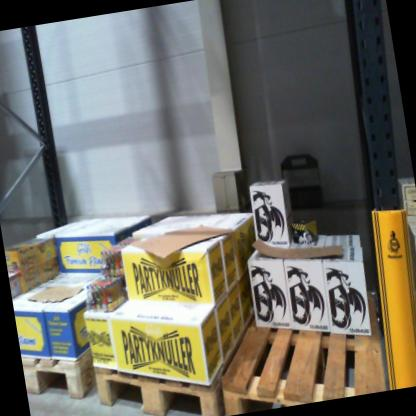pallet: (83, 264, 323, 416), (205, 270, 399, 414), (15, 289, 165, 405)
